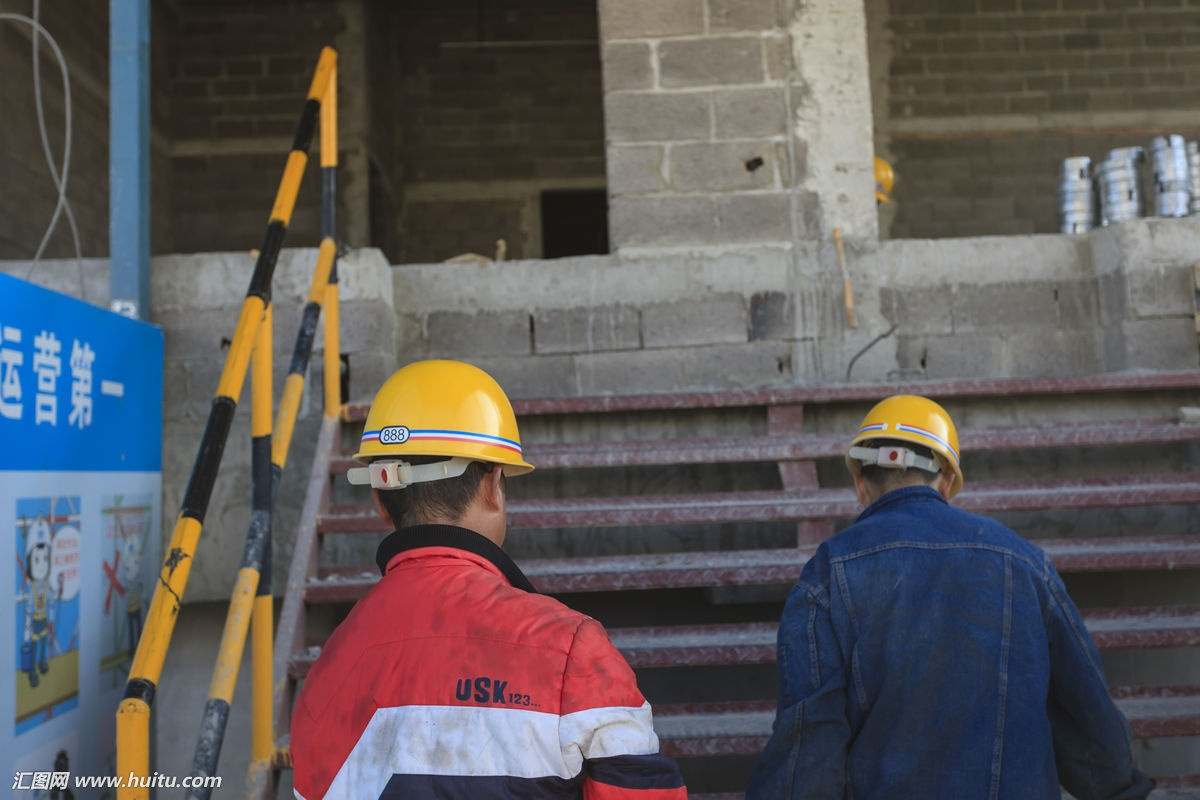yellow: (352, 357, 525, 561), (843, 392, 968, 511)
